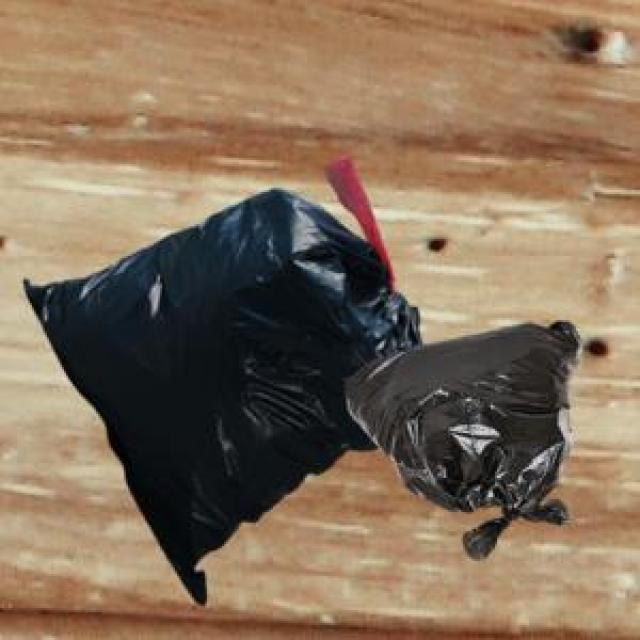waste: (29, 188, 419, 600), (367, 322, 575, 514)
